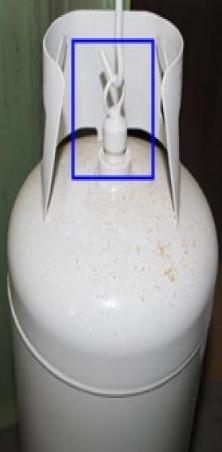cylinder: (1, 1, 222, 452)
